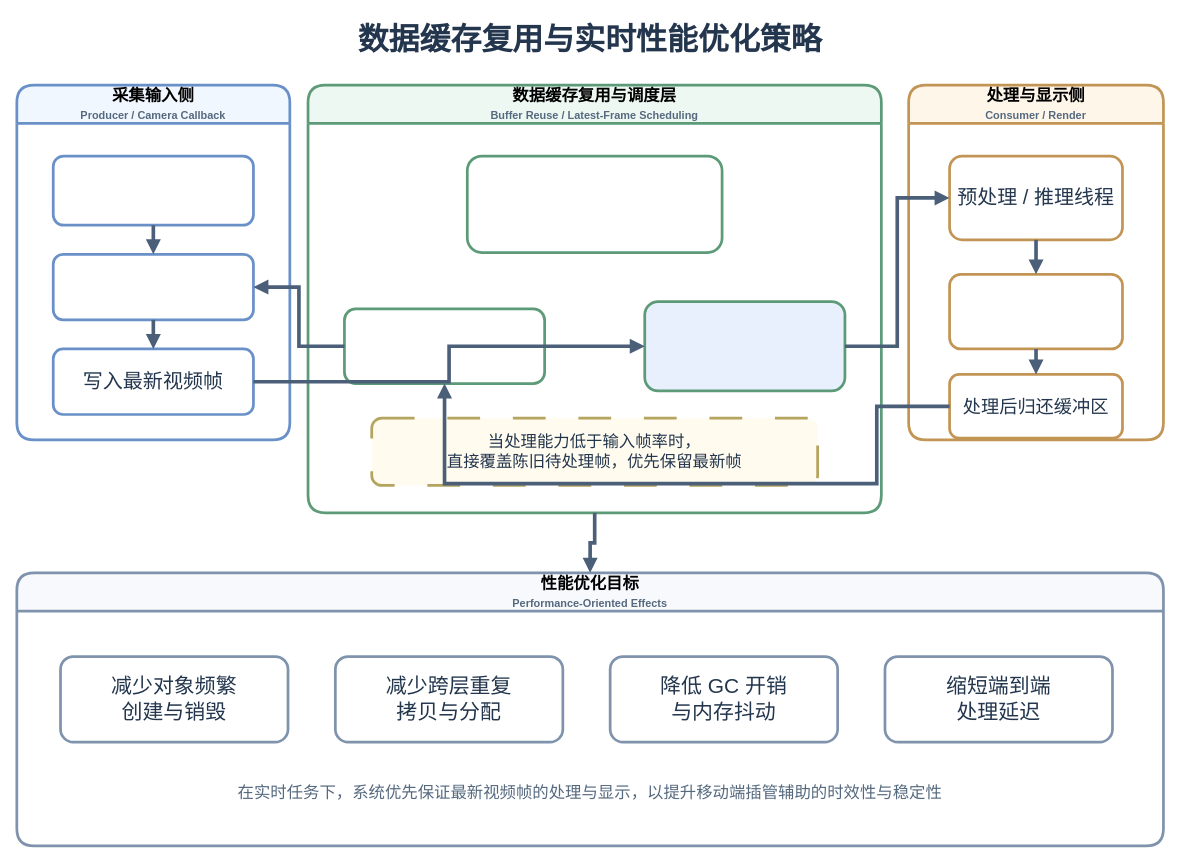
The diagram is 1180 pixels wide and 863 high, and some of its shapes have lost their labels. The shapes that lost their labels are listed below. From the top down, each one's centre as x and y in pixels, then its label:
(x=152, y=190): USB 摄像头 预览回调
(x=594, y=203): 预分配帧缓存池 Buffer A / B / C / N 统一管理对象生命周期
(x=152, y=287): 申请空闲缓冲区
(x=1035, y=311): 结果渲染 / 显示
(x=444, y=345): 空闲缓冲队列
(x=744, y=346): 最新帧就绪槽 Latest Frame Only
